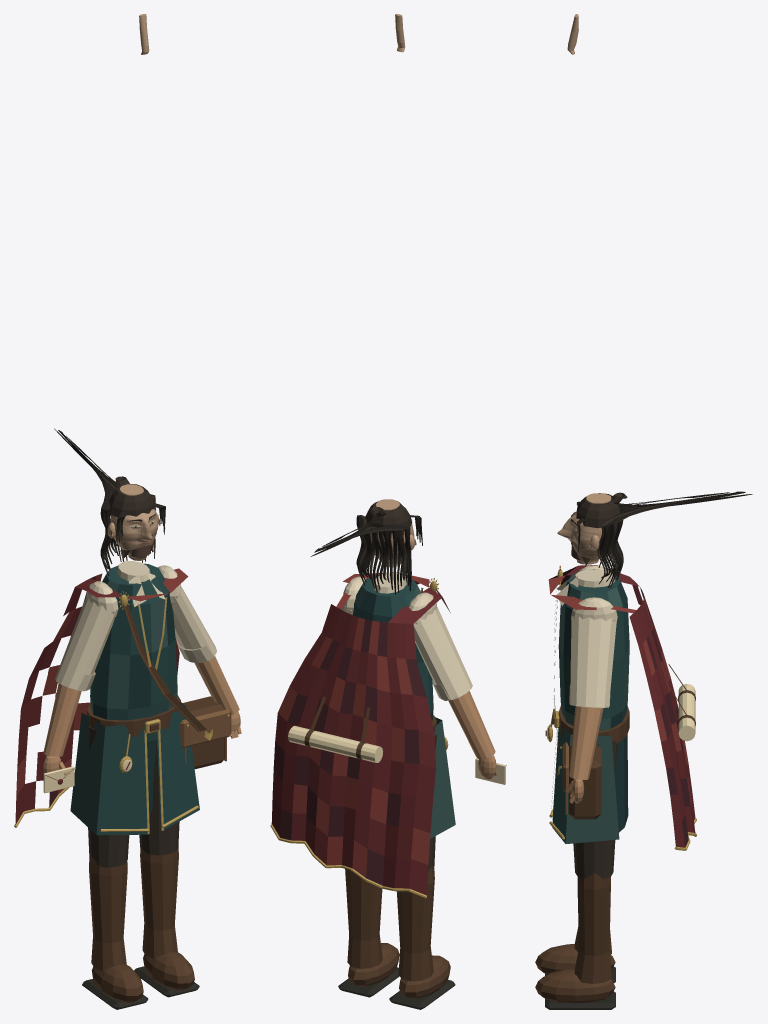
The model's file is courier.glb.
3 views of the same model, side by side, from view 1: azimuth 30°, elevation 25°; view 2: azimuth 150°, elevation 25°; view 3: azimuth 270°, elevation 25° (orthographic).
Parts seen in each view (by area): view 1: Waistcoat, Split_coat_R, Cloak_folds, Boot_shaft_R, Boot_shaft_L, Split_coat_L, Linen_sleeve_R, Forearm_R, Face, Trouser_thigh_L, Linen_sleeve_L, Boot_toe_L (+13 smaller); view 2: Cloak_folds, Boot_shaft_R, Boot_shaft_L, Linen_sleeve_R, Waistcoat, Split_coat_R, Map_roll, Forearm_R, Boot_toe_R, Boot_toe_L, Hair_target_top, Boot_sole_R (+1 smaller); view 3: Cloak_folds, Waistcoat, Linen_sleeve_L, Split_coat_L, Boot_shaft_L, Boot_toe_L, Forearm_L, Trouser_thigh_L, Messenger_satchel, Face, Back_coat, Boot_toe_R (+6 smaller).
Boxes of the visible parts, x1,y1,x2,y2 form: Waistcoat: [90, 563, 177, 741]; Split_coat_R: [70, 712, 147, 835]; Cloak_folds: [15, 568, 188, 824]; Boot_shaft_R: [89, 856, 127, 970]; Boot_shaft_L: [140, 846, 178, 958]; Split_coat_L: [156, 702, 199, 831]; Linen_sleeve_R: [55, 596, 116, 691]; Forearm_R: [43, 683, 81, 756]; Face: [110, 484, 158, 560]; Trouser_thigh_L: [139, 741, 179, 855]; Linen_sleeve_L: [171, 586, 216, 662]; Boot_toe_L: [143, 951, 194, 990]; Cloak_folds: [271, 572, 450, 895]; Boot_shaft_R: [396, 866, 434, 981]; Boot_shaft_L: [345, 869, 382, 968]; Linen_sleeve_R: [413, 605, 472, 700]; Waistcoat: [353, 575, 433, 720]; Split_coat_R: [430, 717, 455, 838]; Map_roll: [288, 726, 382, 762]; Forearm_R: [448, 691, 495, 759]; Boot_toe_R: [399, 955, 450, 998]; Boot_toe_L: [348, 943, 399, 986]; Hair_target_top: [365, 500, 412, 532]; Boot_sole_R: [389, 980, 455, 1009]; Cloak_folds: [548, 565, 695, 847]; Waistcoat: [558, 569, 629, 730]; Linen_sleeve_L: [570, 616, 616, 707]; Split_coat_L: [552, 717, 619, 843]; Boot_shaft_L: [574, 872, 611, 983]; Boot_toe_L: [535, 969, 615, 1003]; Forearm_L: [569, 706, 603, 779]; Trouser_thigh_L: [573, 740, 617, 879]; Messenger_satchel: [568, 744, 601, 819]; Face: [557, 493, 611, 564]; Back_coat: [613, 734, 628, 832]; Boot_toe_R: [535, 944, 615, 974].
Size of the model in its own units: 0.7395 by 3.42 by 0.6955.
